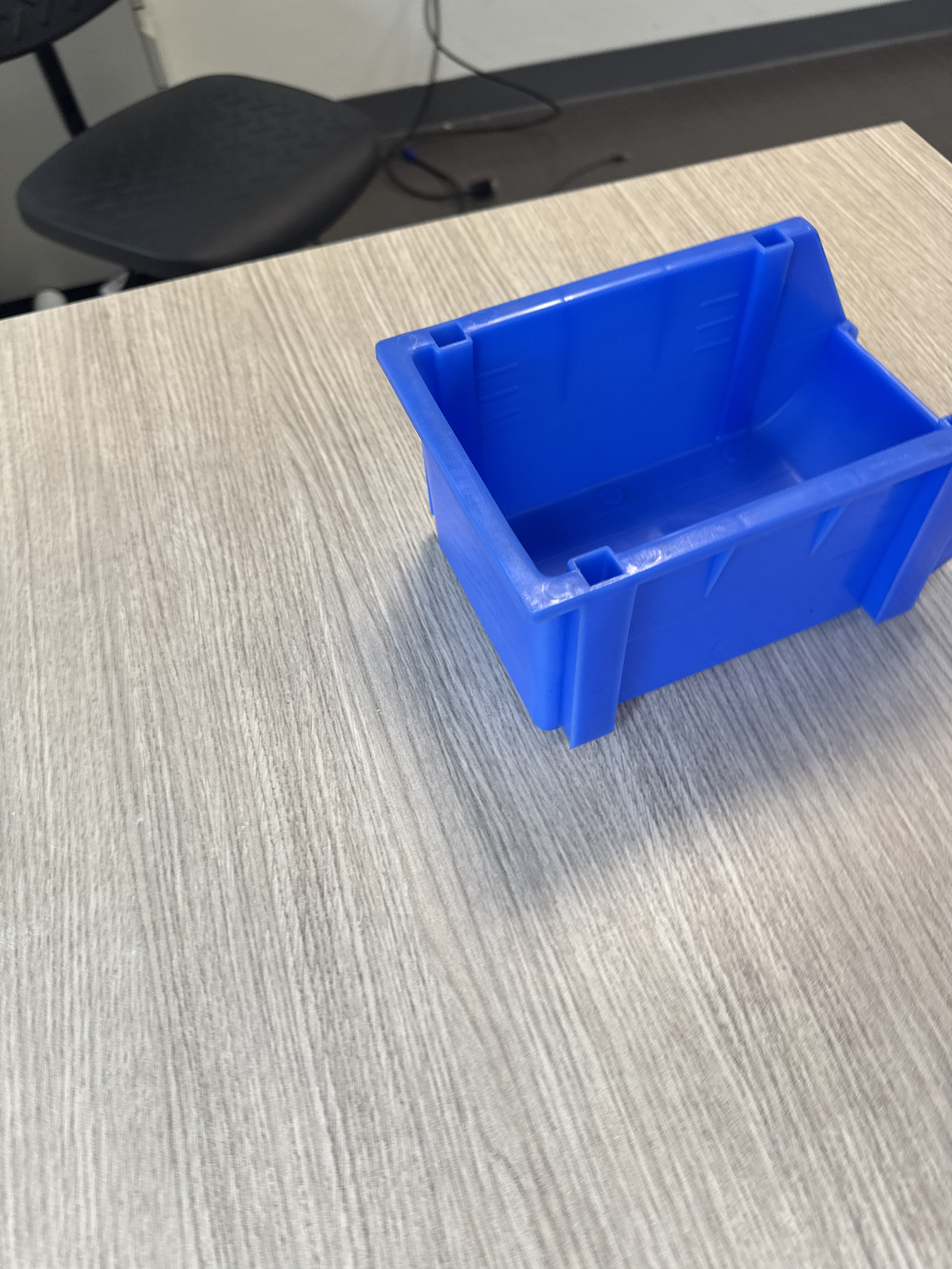Bin Boundary: (422, 220, 952, 596)
